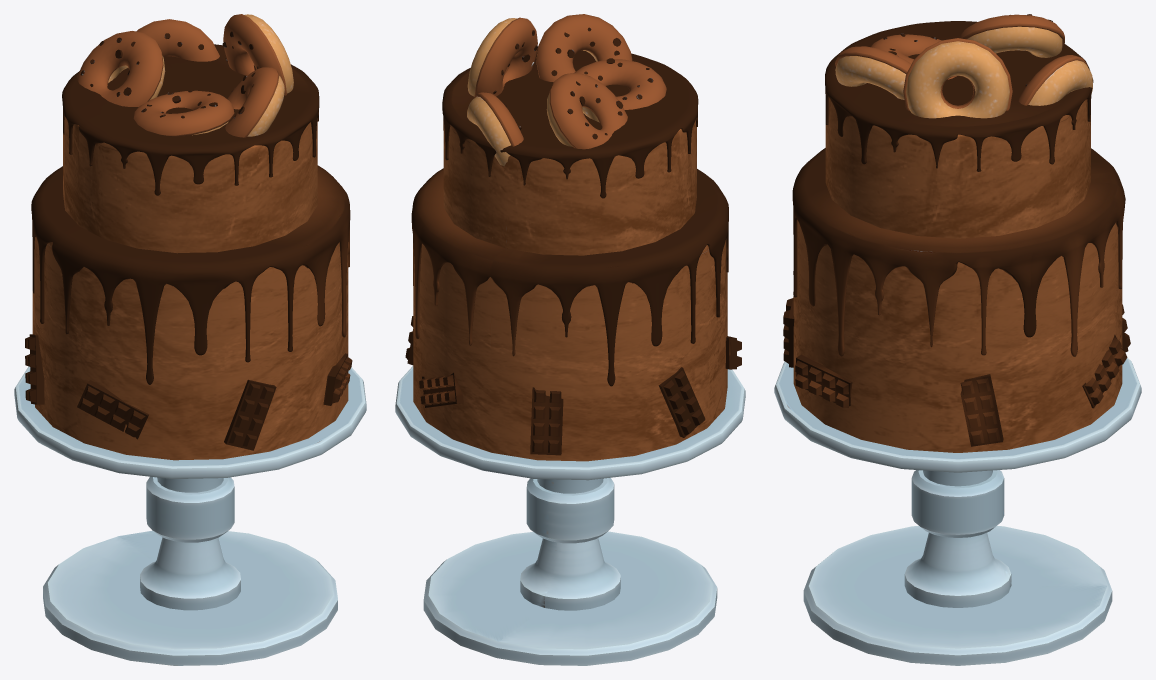
The model's file is 3december_choco_cake.glb.
The picture shows the model from 3 angles, left to right: view 1: azimuth 30°, elevation 25°; view 2: azimuth 150°, elevation 25°; view 3: azimuth 270°, elevation 25°; orthographic projection. The views are drawn at different scales.
Parts seen in each view (by area): view 1: polySurface28, polySurface27, polySurface26, polySurface29, polySurface25, polySurface39, polySurface40, polySurface36, polySurface38, polySurface37, polySurface24, polySurface35 (+2 smaller); view 2: polySurface28, polySurface27, polySurface26, polySurface29, polySurface25, polySurface39, polySurface38, polySurface36, polySurface40, polySurface37, polySurface33, polySurface34 (+1 smaller); view 3: polySurface28, polySurface27, polySurface26, polySurface29, polySurface25, polySurface36, polySurface39, polySurface38, polySurface37, polySurface31, polySurface30, polySurface32 (+2 smaller).
Part boxes in pixels (<box>): polySurface28: <box>14,366,366,665</box>; polySurface27: <box>32,237,348,460</box>; polySurface26: <box>63,116,317,253</box>; polySurface29: <box>31,165,350,384</box>; polySurface25: <box>62,44,319,195</box>; polySurface39: <box>77,31,165,106</box>; polySurface40: <box>133,90,234,136</box>; polySurface36: <box>222,14,293,95</box>; polySurface38: <box>225,67,284,137</box>; polySurface37: <box>136,19,219,61</box>; polySurface24: <box>224,379,276,450</box>; polySurface35: <box>77,380,148,439</box>; polySurface28: <box>395,366,745,665</box>; polySurface27: <box>413,239,727,461</box>; polySurface26: <box>443,120,696,255</box>; polySurface29: <box>411,168,728,386</box>; polySurface25: <box>442,49,698,198</box>; polySurface39: <box>546,73,627,149</box>; polySurface38: <box>536,14,632,82</box>; polySurface36: <box>467,17,537,97</box>; polySurface40: <box>574,58,666,109</box>; polySurface37: <box>467,92,523,165</box>; polySurface33: <box>530,387,563,455</box>; polySurface34: <box>658,367,705,437</box>; polySurface28: <box>774,358,1141,665</box>; polySurface27: <box>793,220,1122,452</box>; polySurface26: <box>825,97,1090,238</box>; polySurface29: <box>792,148,1125,356</box>; polySurface25: <box>825,21,1093,171</box>; polySurface36: <box>903,38,1012,118</box>; polySurface39: <box>959,14,1064,57</box>; polySurface38: <box>835,46,911,99</box>; polySurface37: <box>1018,55,1092,105</box>; polySurface31: <box>960,374,1003,446</box>; polySurface30: <box>795,354,852,407</box>; polySurface32: <box>1082,334,1127,408</box>.
Size of the model in its own units: 120 by 213 by 120.
Materials: 1 (1 with a texture image).
